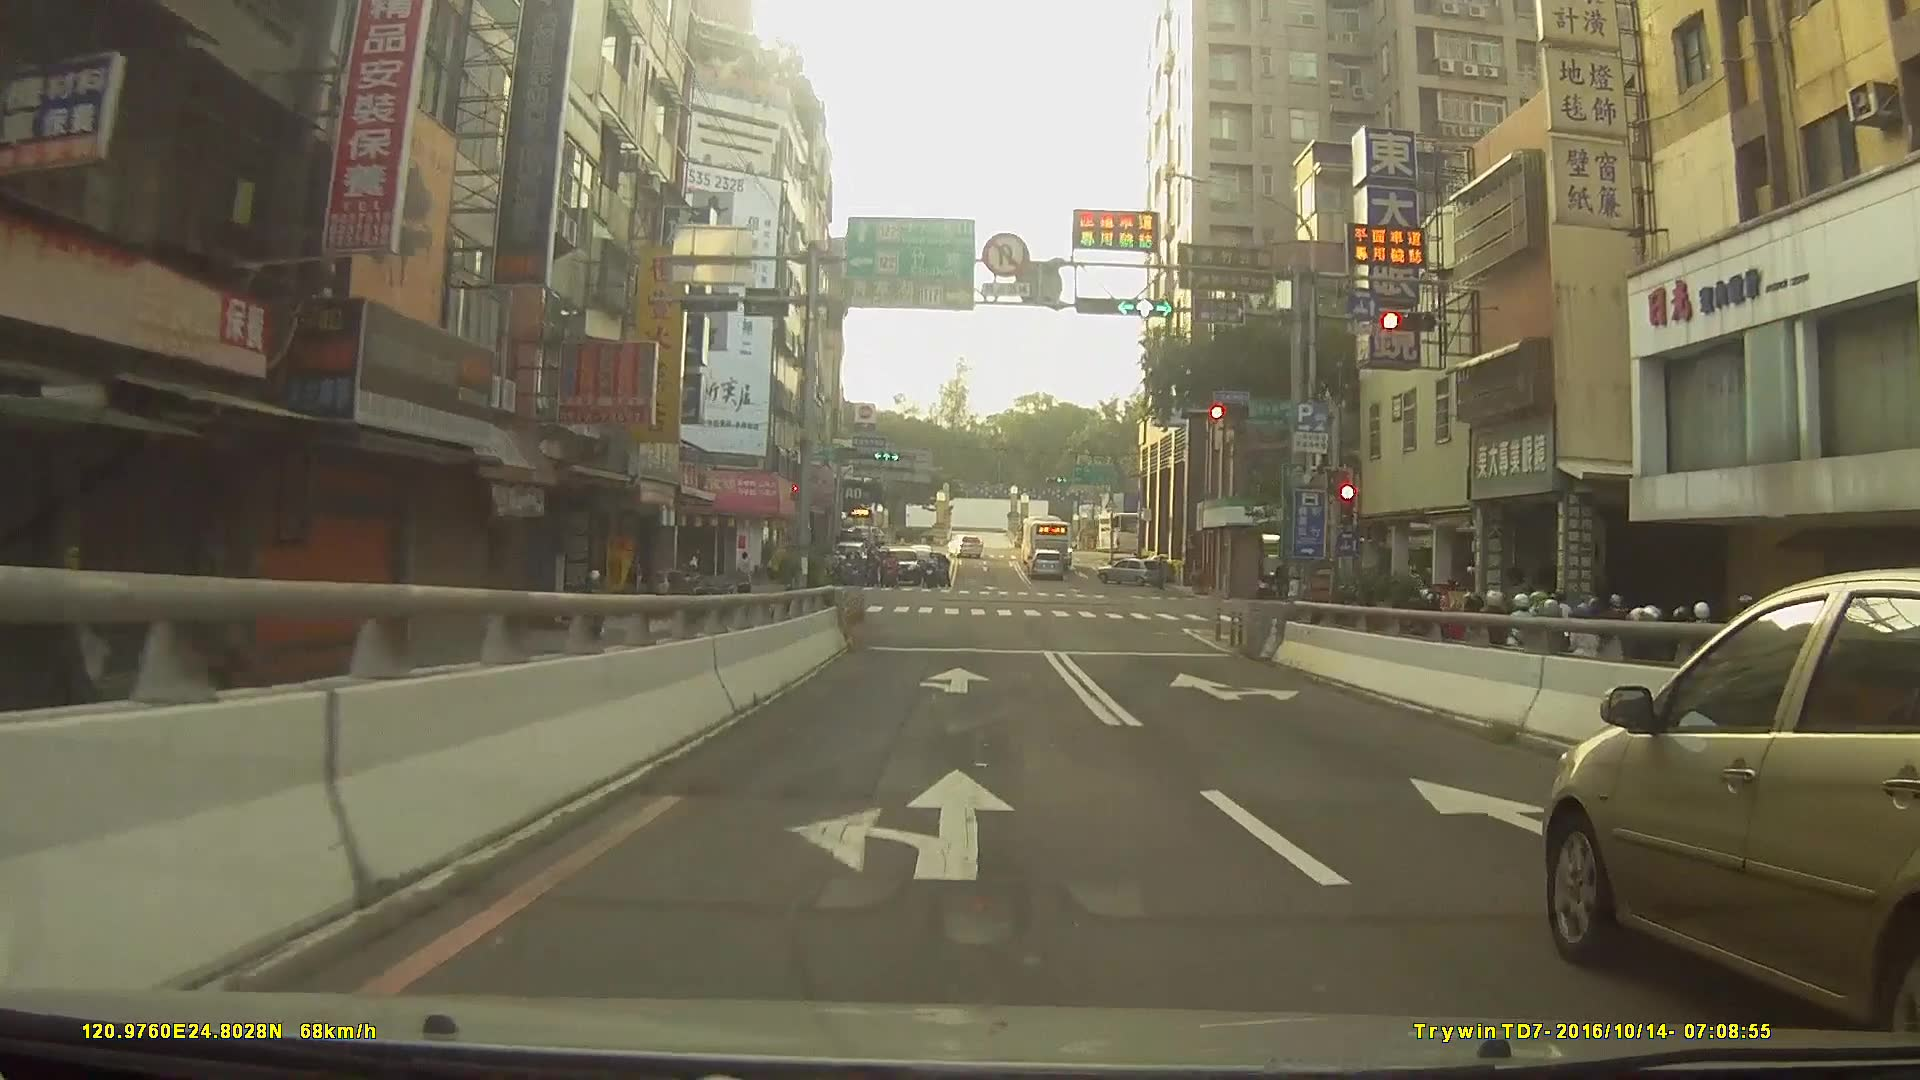pedestrian: (1270, 564, 1290, 602)
rider: (566, 570, 617, 663)
vehicle: (1543, 565, 1920, 1052), (1095, 511, 1174, 558), (1097, 558, 1171, 591), (1025, 518, 1073, 566), (880, 547, 923, 583), (1030, 548, 1067, 581), (942, 533, 980, 560)
